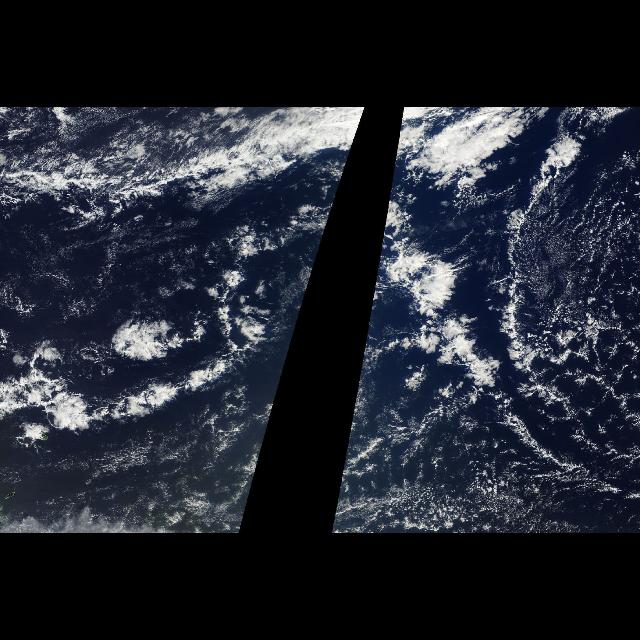Fish: (368, 176, 638, 489), (1, 305, 288, 445)
Gravel: (492, 238, 634, 380), (408, 393, 562, 522)
Sugar: (95, 442, 241, 526)
